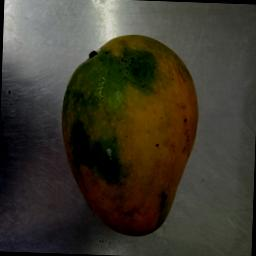Mango Unripe: (29, 0, 256, 249)
